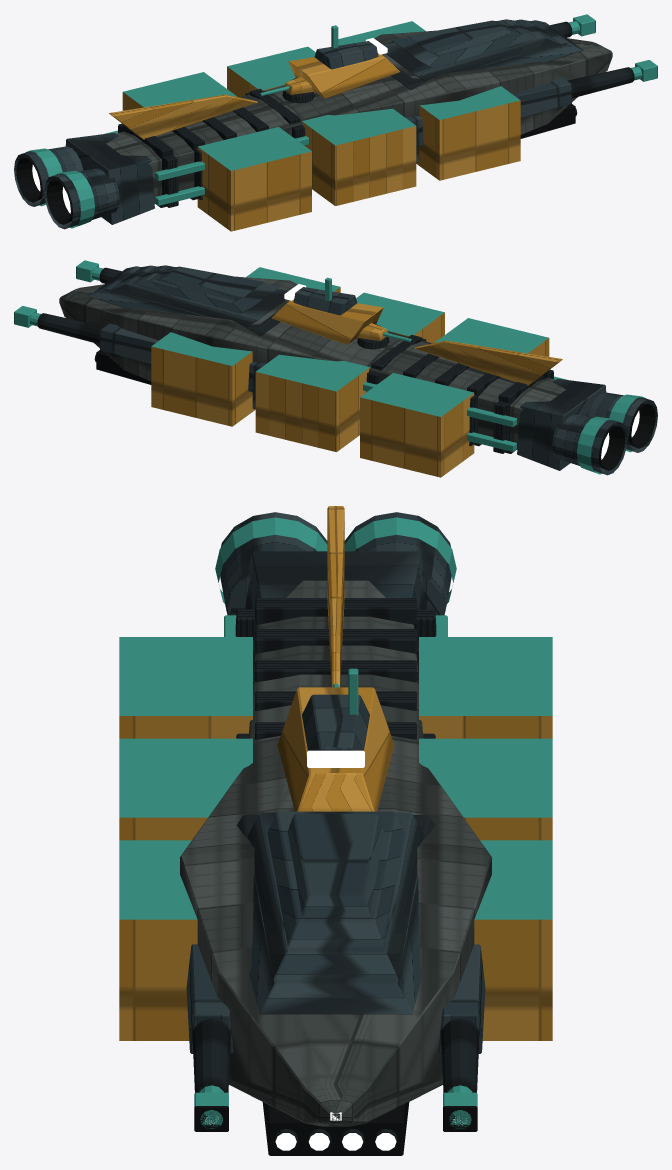
File: destroyer.glb
3 views of the same model, one above another, from view 1: azimuth 30°, elevation 25°; view 2: azimuth 150°, elevation 25°; view 3: azimuth 270°, elevation 25° (orthographic). The views are drawn at different scales.
Parts seen in each view (by area): view 1: destroyer; view 2: destroyer; view 3: destroyer.
Boxes of the visible parts, x1,y1,x2,y2 form: destroyer: (14,14,657,231); destroyer: (14,260,657,477); destroyer: (119,506,552,1155).
Bounding box in the file's own units: 30 × 6.76 × 9.72.
1 material, 1 textured.
